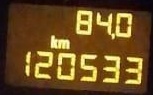-: (110, 32, 115, 40)
0: (55, 51, 75, 80), (113, 12, 131, 37)
1: (23, 49, 31, 75)
2: (32, 50, 53, 79)
3: (101, 54, 120, 82), (122, 56, 141, 84)
4: (95, 10, 112, 34)
5: (78, 53, 97, 82)
8: (75, 9, 92, 35)
X: (57, 38, 70, 49), (49, 34, 57, 49)
